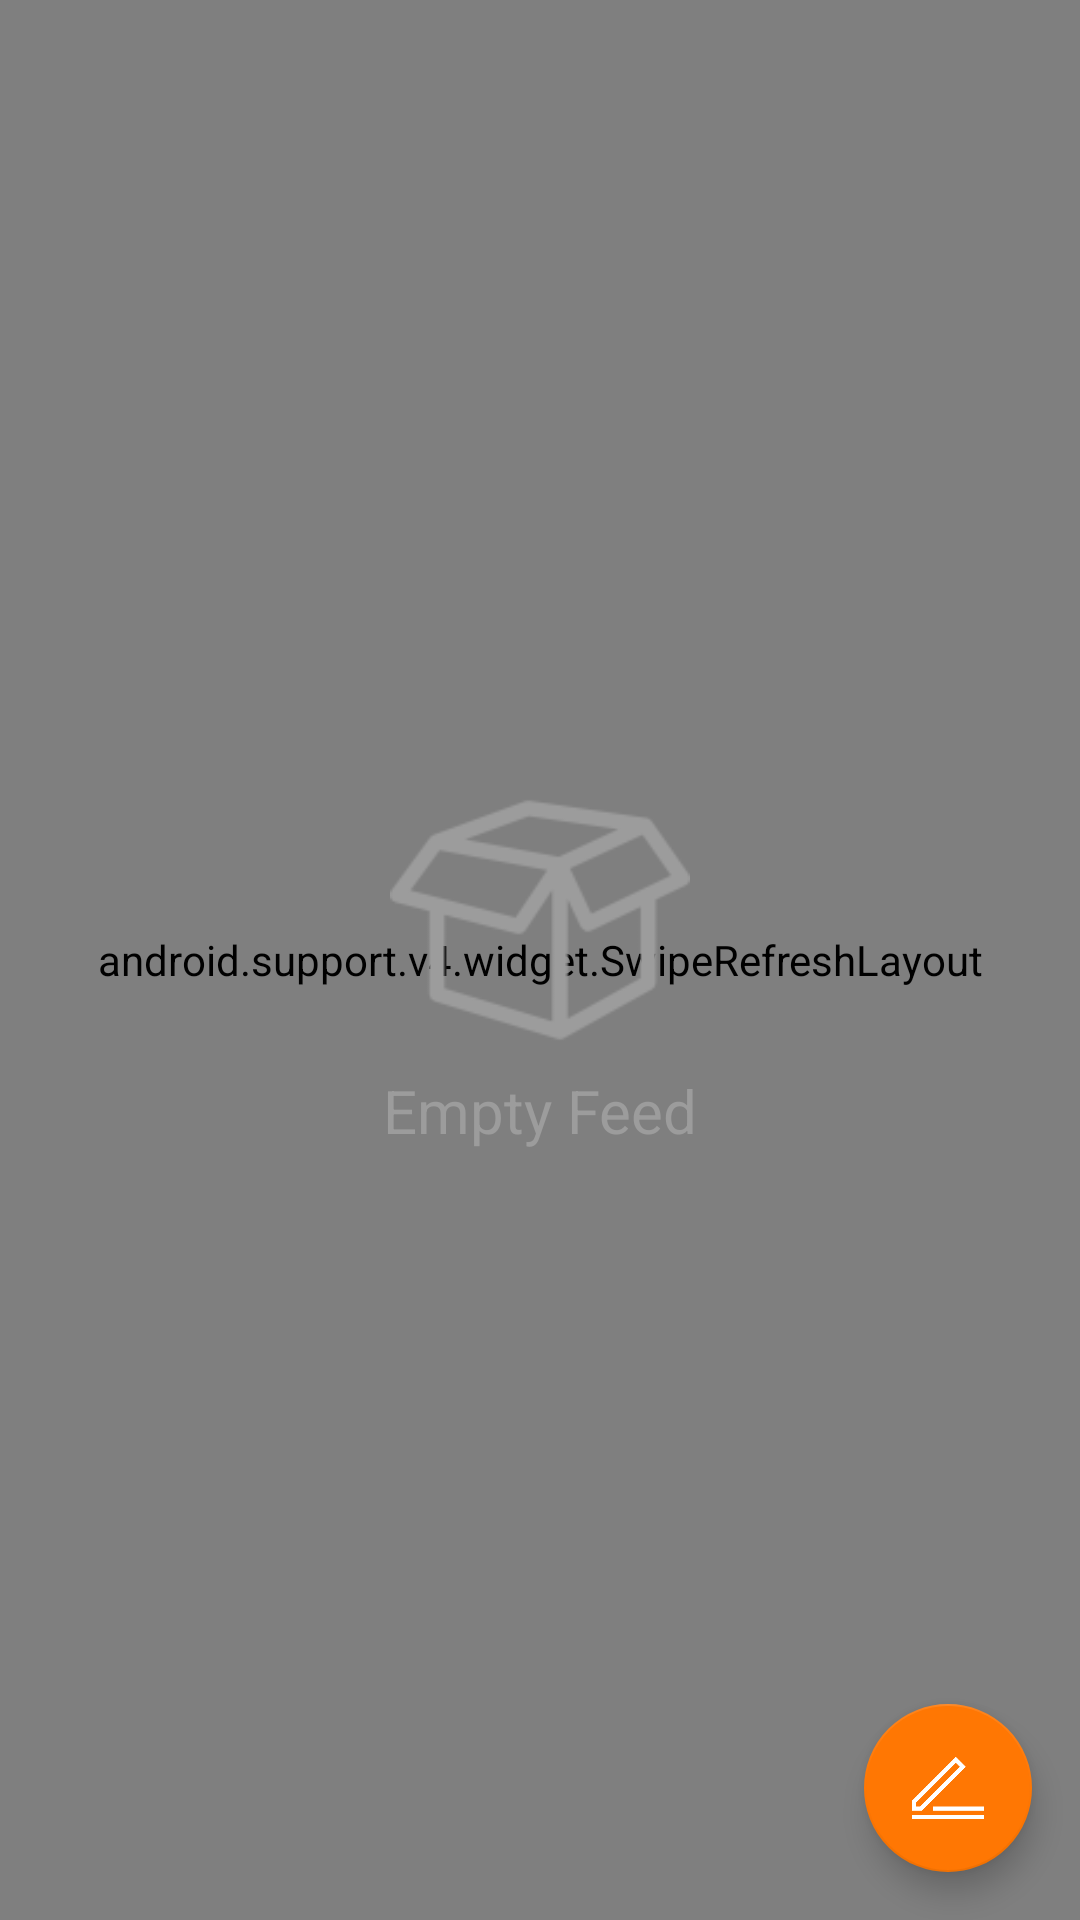

Named icons in this screenshot (1080×1920) and their centers, point (x, y):
post: point (948, 1788)
